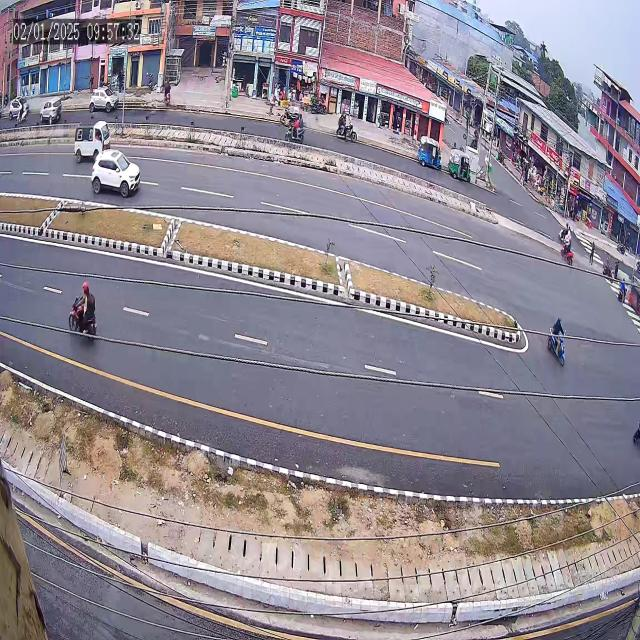car: (86, 145, 146, 199)
motorcycle: (59, 267, 111, 348), (540, 305, 580, 375)
van: (70, 116, 114, 162)
